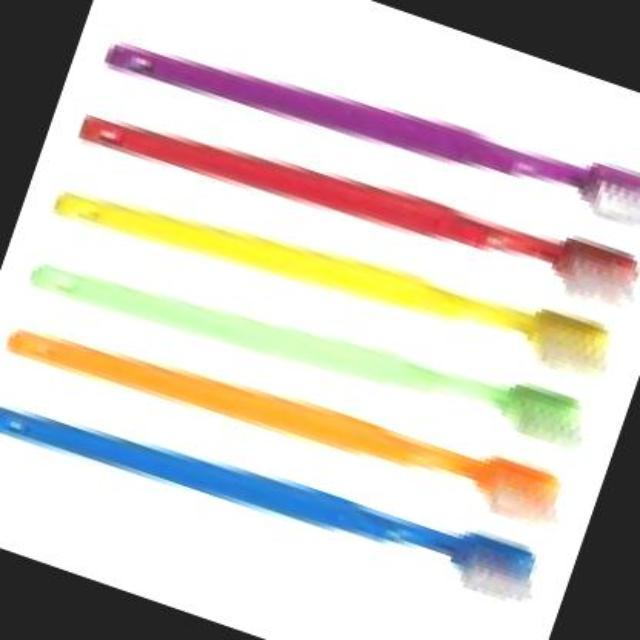toothbrush: (1, 354, 564, 638), (44, 148, 622, 400)
